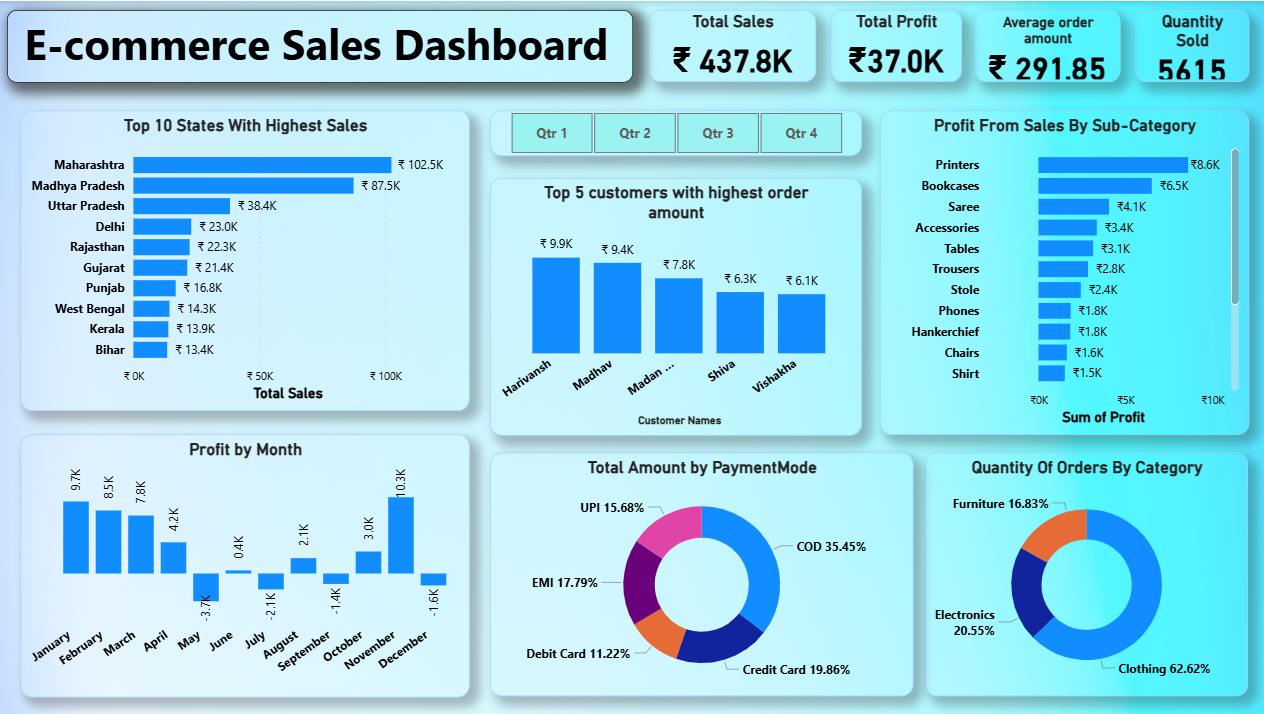

What the dashboard file says about the page in this screenshot:
{"tool":"powerbi","page":{"name":"Page 1","canvas":[1280,720],"ordinal":0},"visuals":[{"type":"textbox","box":[8.3,8.3,631.7,73.3],"z":0},{"type":"card","title":"Quantity Sold","fields":{"Values":["Details.Quantity"]},"box":[1147.8,9.1,115.1,83.3],"z":1000},{"type":"card","title":"Total Profit","fields":{"Values":["Details.Profit"]},"box":[840,8.8,132.5,72.5],"z":2000},{"type":"card","title":"Average order amount","fields":{"Values":["Details.Amount"]},"box":[986.2,8.8,147.5,72.5],"z":3000},{"type":"card","title":"Total  Sales","fields":{"Values":["Details.Amount"]},"box":[657.5,8.8,168.8,72.5],"z":4000},{"type":"slicer","fields":{"Values":["Orders.Order Date.Variation.Date Hierarchy.Quarter"]},"box":[496.2,110,375,46.2],"z":5000},{"type":"clusteredColumnChart","title":"Profit by Month","fields":{"Category":["Orders.Order Date.Variation.Date Hierarchy.Month"],"Y":["Details.total profit"]},"box":[23.3,438.3,453.3,265],"z":6000},{"type":"barChart","title":"Top 10 States With Highest Sales ","fields":{"Category":["Orders.State"],"Y":["Details.Amount"]},"box":[23.3,110,453.3,303.3],"z":7000},{"type":"donutChart","title":"Quantity Of Orders By Category","fields":{"Y":["Details.Quantity"],"Series":["Details.Category"]},"box":[936.2,456.2,326.2,246.2],"z":8000},{"type":"donutChart","fields":{"Series":["Details.PaymentMode"],"Y":["Details.Amount"]},"box":[496.2,456.2,427.5,246.2],"z":9000},{"type":"columnChart","title":"Top 5 customers with highest order amount","fields":{"Category":["Orders.CustomerName"],"Y":["Details.Amount"]},"box":[496.7,178.3,375,260],"z":10000},{"type":"clusteredBarChart","title":"Profit From Sales By Sub-Category","fields":{"Y":["Details.Profit"],"Category":["Details.Sub-Category"]},"box":[890,110,372.5,327.5],"z":11000}]}

Visuals, with their boxes in screenshot pixels (x1, y1, x2, y2), scaled from the page's 1280x720 canvas onto the 1264x714 screenshot:
textbox: BBox(8, 8, 632, 81)
"Quantity Sold" card: BBox(1133, 9, 1247, 92)
"Total Profit" card: BBox(830, 9, 960, 81)
"Average order amount" card: BBox(974, 9, 1120, 81)
"Total  Sales" card: BBox(649, 9, 816, 81)
slicer - Orders.Order Date.Variation.Date Hierarchy.Quarter: BBox(490, 109, 860, 155)
"Profit by Month" clusteredColumnChart: BBox(23, 435, 471, 697)
"Top 10 States With Highest Sales " barChart: BBox(23, 109, 471, 410)
"Quantity Of Orders By Category" donutChart: BBox(924, 452, 1247, 697)
donutChart - Details.PaymentMode x Details.Amount: BBox(490, 452, 912, 697)
"Top 5 customers with highest order amount" columnChart: BBox(490, 177, 861, 435)
"Profit From Sales By Sub-Category" clusteredBarChart: BBox(879, 109, 1247, 434)
